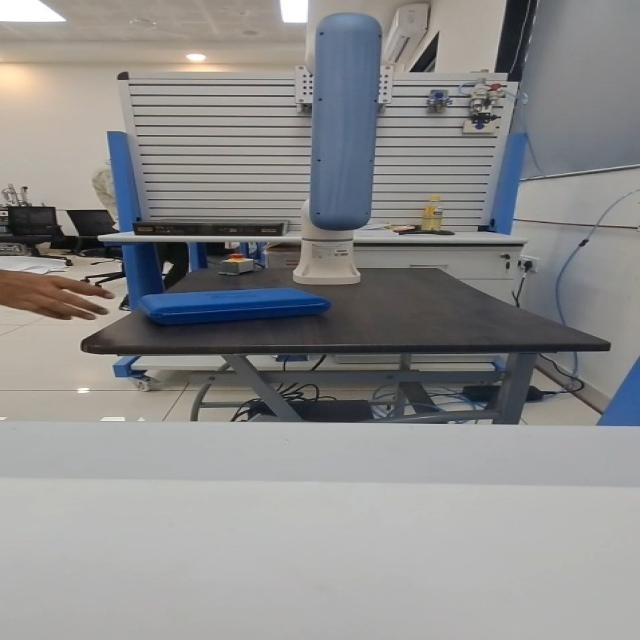top-surface: (156, 289, 308, 306)
